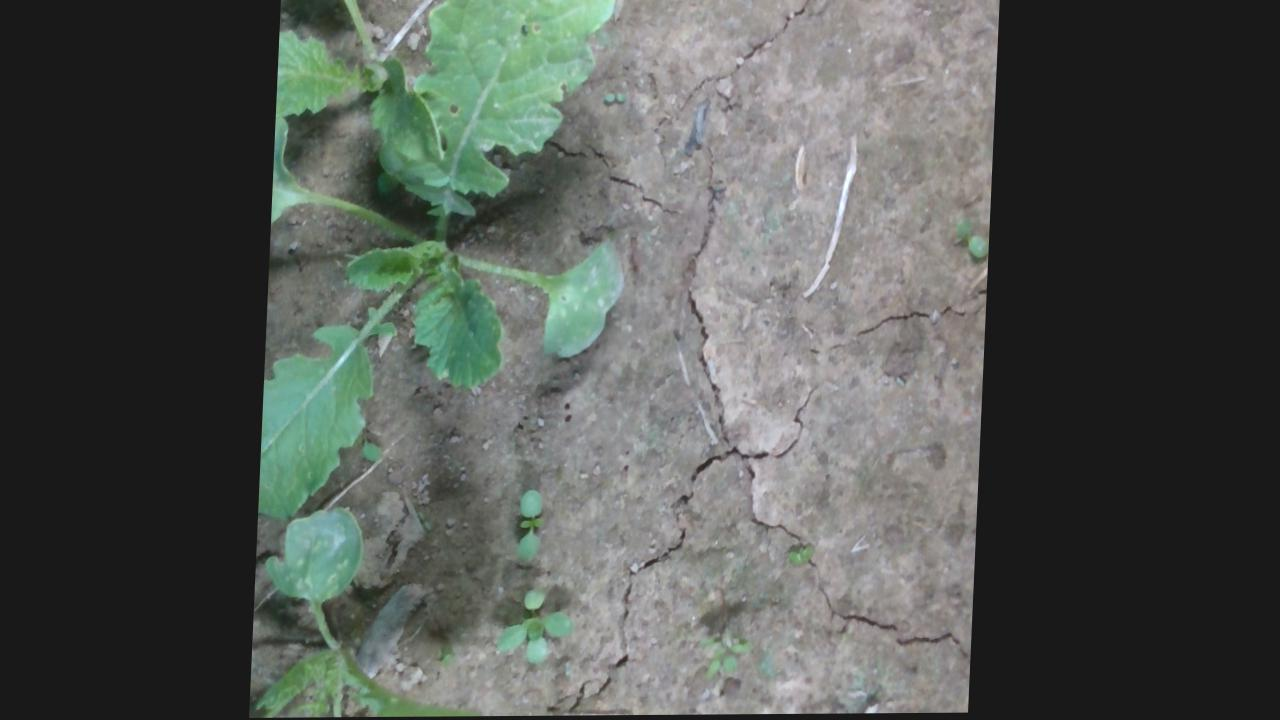weed: (518, 489, 554, 565), (789, 543, 823, 569), (604, 90, 628, 105)
